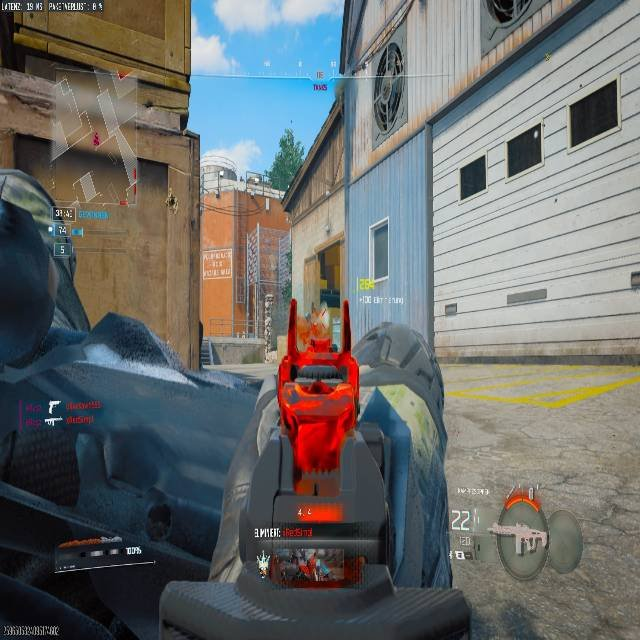head: (0, 167, 73, 375)
player: (0, 161, 210, 640)
